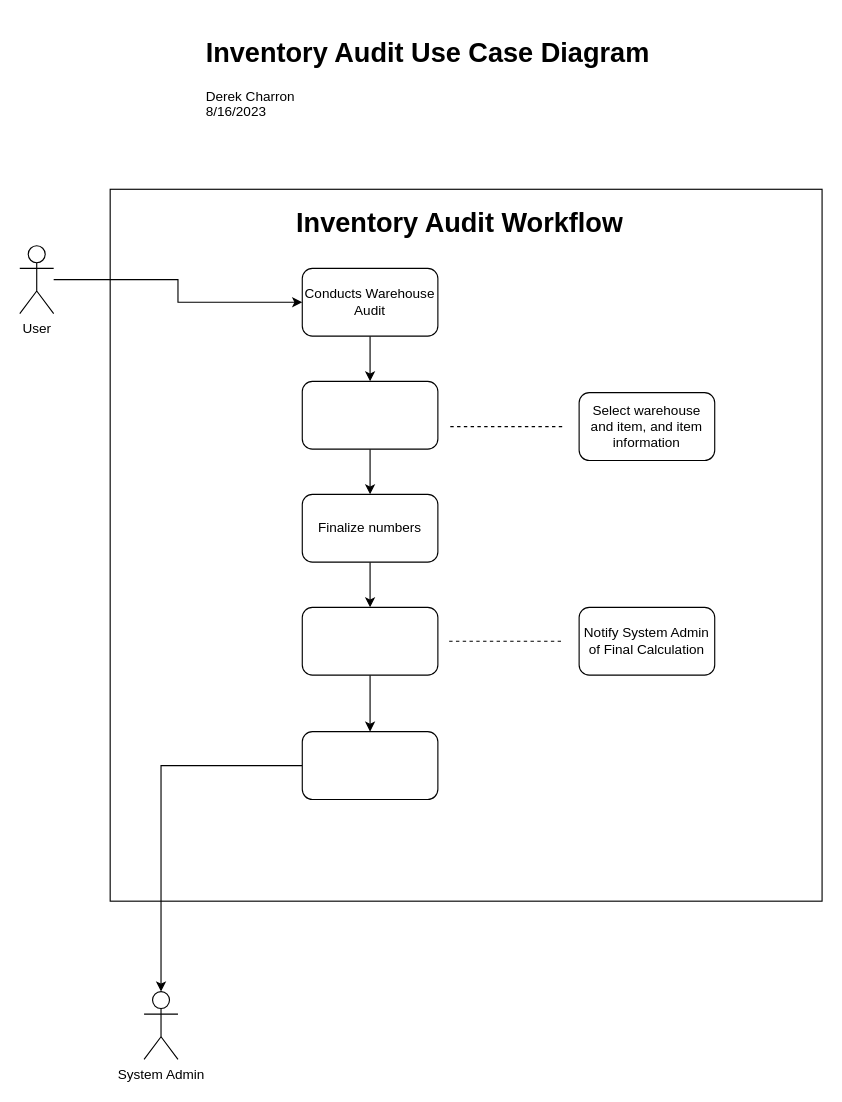
This 842x1102 diagram has some shape labels left out. Each missing label, with the centre of its shape:
Calculate Final Numbers of Items, and shipping costs: [369,640]
Final Check of company books: [369,765]
Manage Audit through User Interface Application: [369,414]
